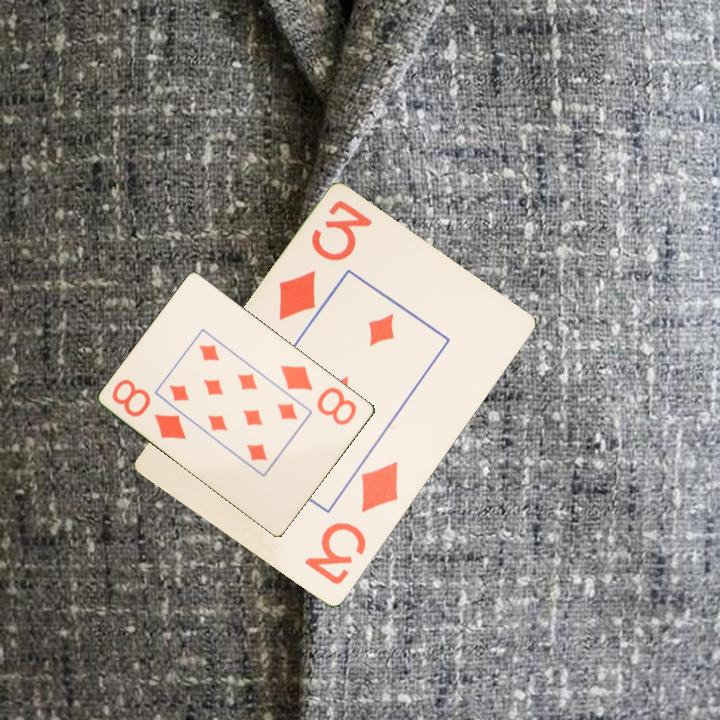3d: (301, 458, 402, 589), (275, 197, 376, 324)
8d: (277, 361, 360, 428), (108, 375, 190, 442)
